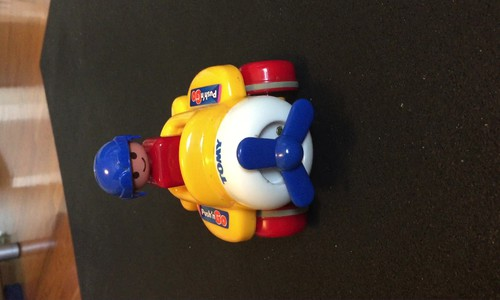toy: (87, 56, 322, 248)
